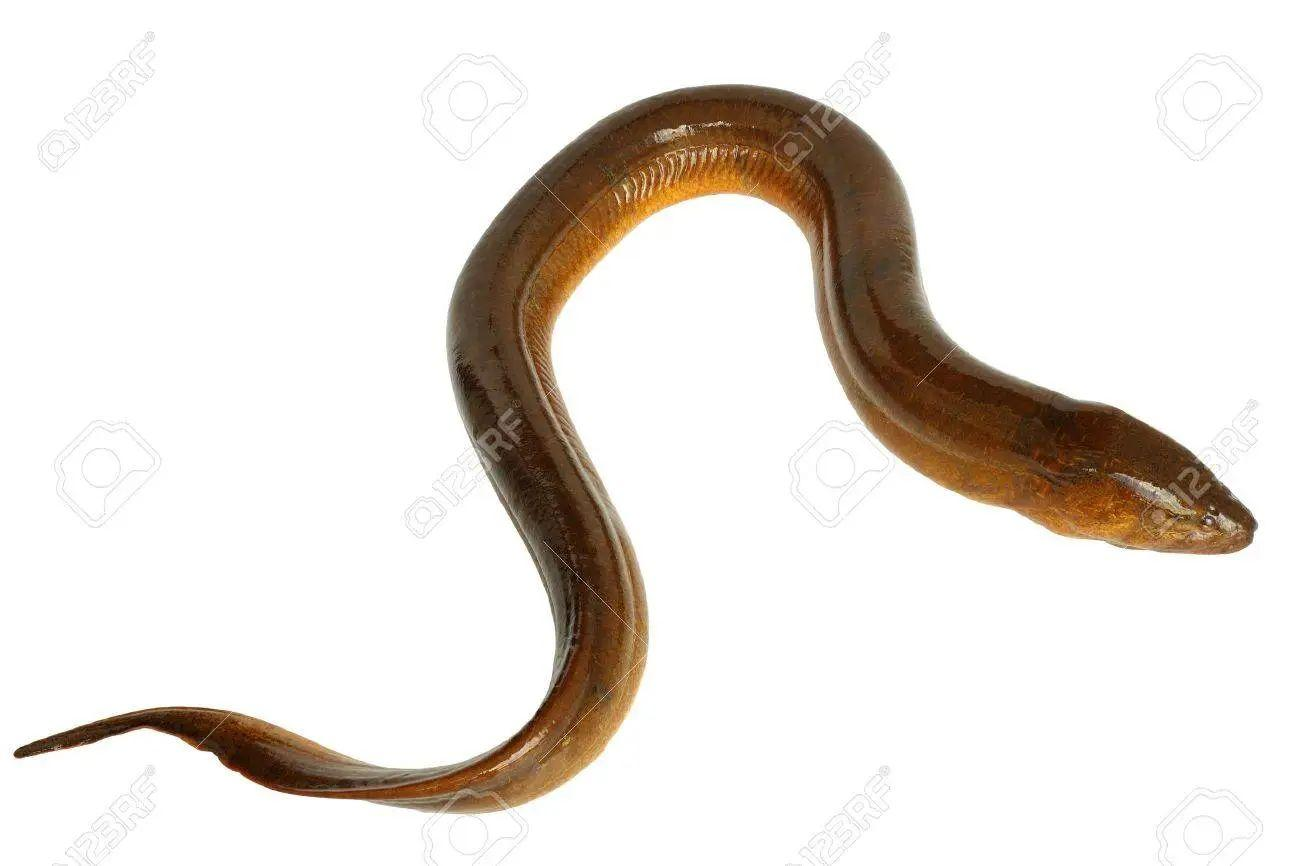Freshwater Eel: (8, 75, 1275, 822)
